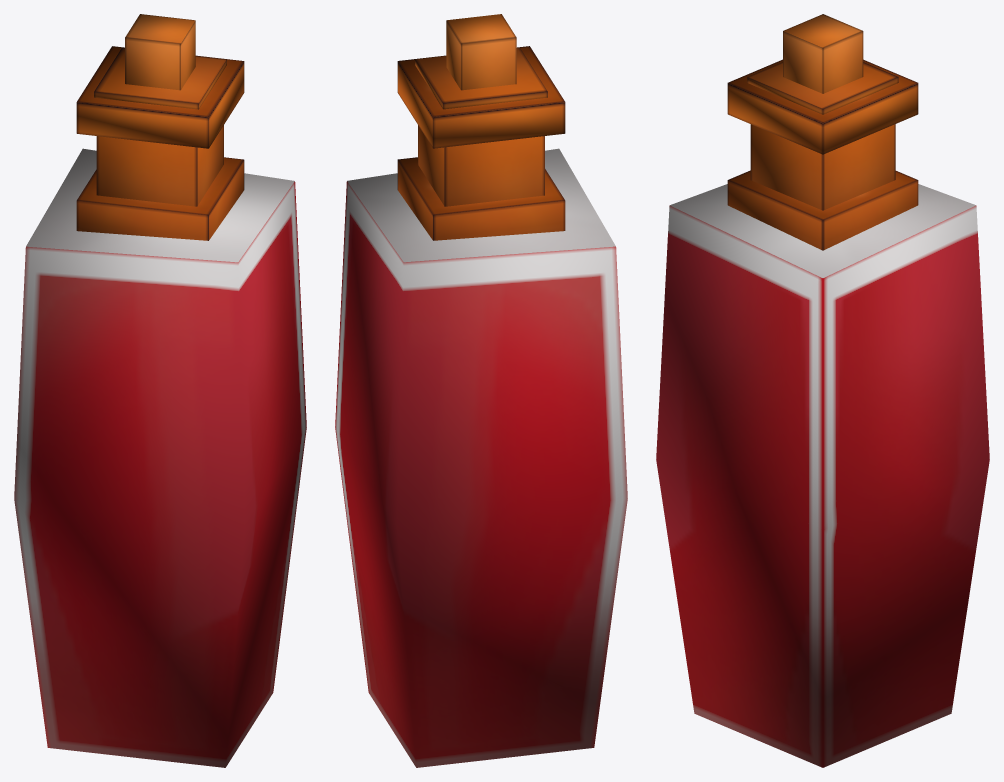
Rendered from posion2.FBX.
3 renders of one model, left to right at view 1: azimuth 30°, elevation 25°; view 2: azimuth 150°, elevation 25°; view 3: azimuth 270°, elevation 25°, orthographic.
Visible parts, largest first — view 1: Box002; view 2: Box002; view 3: Box002.
Boxes of the visible parts, x1,y1,x2,y2 form: Box002: (14,14,306,767); Box002: (335,14,627,767); Box002: (656,14,989,767).
Size of the model in its own units: 32.61 by 73.62 by 32.61.
